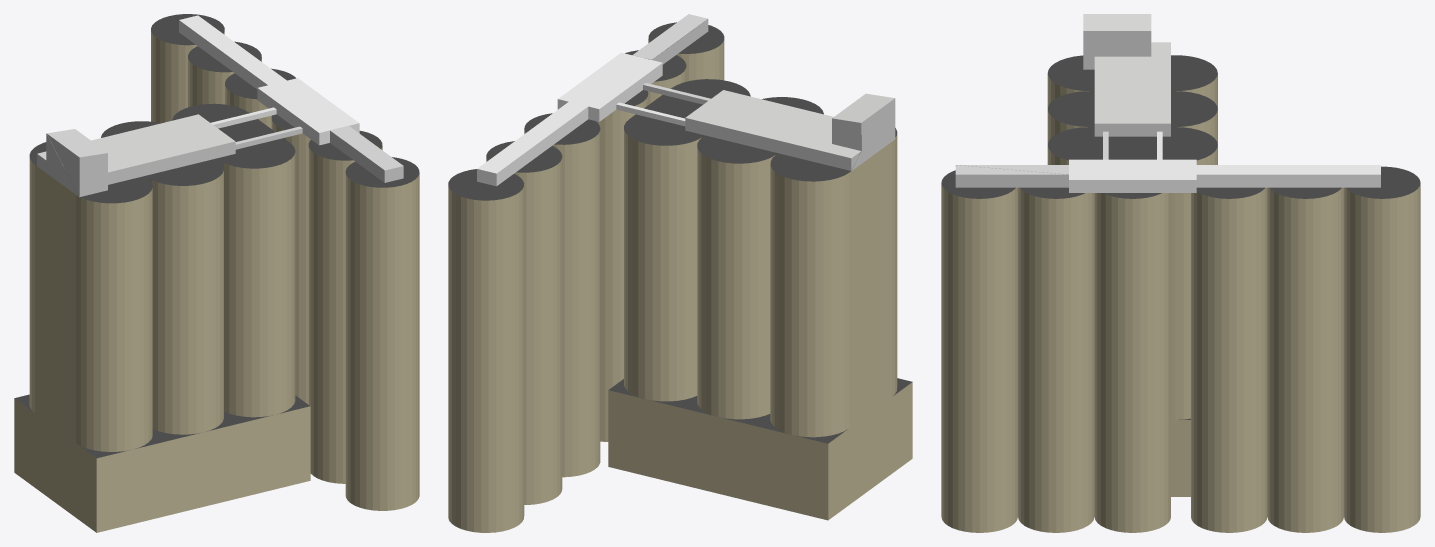
File: silo-cluster.zfix-v14.lod0.glb
3 views of the same model, side by side, from view 1: azimuth 30°, elevation 25°; view 2: azimuth 150°, elevation 25°; view 3: azimuth 270°, elevation 25° (orthographic). The views are drawn at different scales.
Parts seen in each view (by area): view 1: Cube_Material.001_0, Cube.002_Material.003_0, Cube.003__0; view 2: Cube_Material.001_0, Cube.002_Material.003_0, Cube.003__0; view 3: Cube_Material.001_0, Cube.002_Material.003_0, Cube.003__0.
Part boxes in pixels (x1,y1,x2,y2): Cube_Material.001_0: (14,14,419,532); Cube.002_Material.003_0: (37,114,403,197); Cube.003__0: (179,15,359,145); Cube_Material.001_0: (448,22,912,532); Cube.002_Material.003_0: (632,14,895,170); Cube.003__0: (477,52,685,186); Cube_Material.001_0: (941,55,1420,532); Cube.002_Material.003_0: (955,14,1170,187); Cube.003__0: (1069,131,1380,192).
Size of the model in its own units: 24.67 by 30 by 34.73.
Materials: 3 (1 with a texture image).
